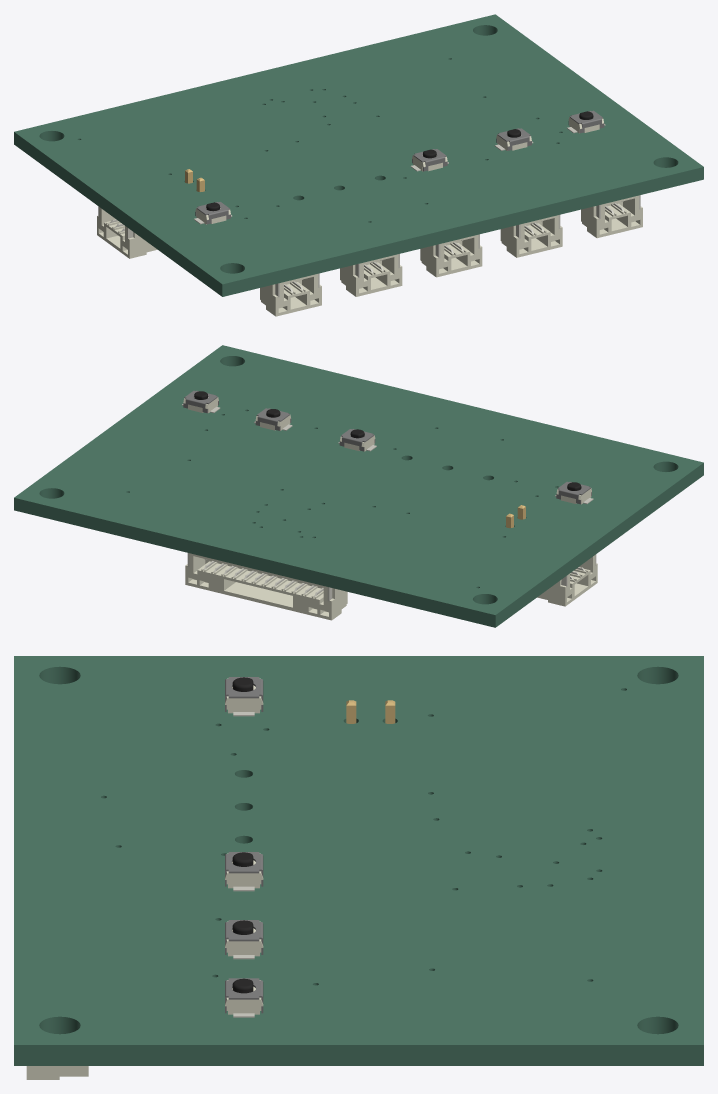
File: pump-panel-rev-e.glb
3 renders of one model, top to bottom at view 1: azimuth 30°, elevation 25°; view 2: azimuth 150°, elevation 25°; view 3: azimuth 270°, elevation 25°, orthographic. The views are drawn at different scales.
Visible parts, largest first — view 1: =>[0:1:1:18], =>[0:1:1:7] (×5), =>[0:1:1:3] (×4), =>[0:1:1:11]; view 2: =>[0:1:1:18], =>[0:1:1:17], =>[0:1:1:3] (×4), =>[0:1:1:11]; view 3: =>[0:1:1:18], =>[0:1:1:3] (×4), =>[0:1:1:7].
Part boxes in pixels (left/top/right/bottom): =>[0:1:1:18]: left=14, top=14, right=703, bottom=296; =>[0:1:1:7] (×5): left=260, top=195, right=642, bottom=316; =>[0:1:1:3] (×4): left=194, top=110, right=605, bottom=224; =>[0:1:1:11]: left=97, top=206, right=157, bottom=258; =>[0:1:1:18]: left=14, top=345, right=703, bottom=627; =>[0:1:1:17]: left=185, top=553, right=347, bottom=620; =>[0:1:1:3] (×4): left=182, top=390, right=593, bottom=504; =>[0:1:1:11]: left=537, top=554, right=597, bottom=606; =>[0:1:1:18]: left=14, top=656, right=703, bottom=1065; =>[0:1:1:3] (×4): left=225, top=677, right=263, bottom=1017; =>[0:1:1:7]: left=26, top=1066, right=88, bottom=1079.
Size of the model in its own units: 0.06 by 0.0118 by 0.045.
